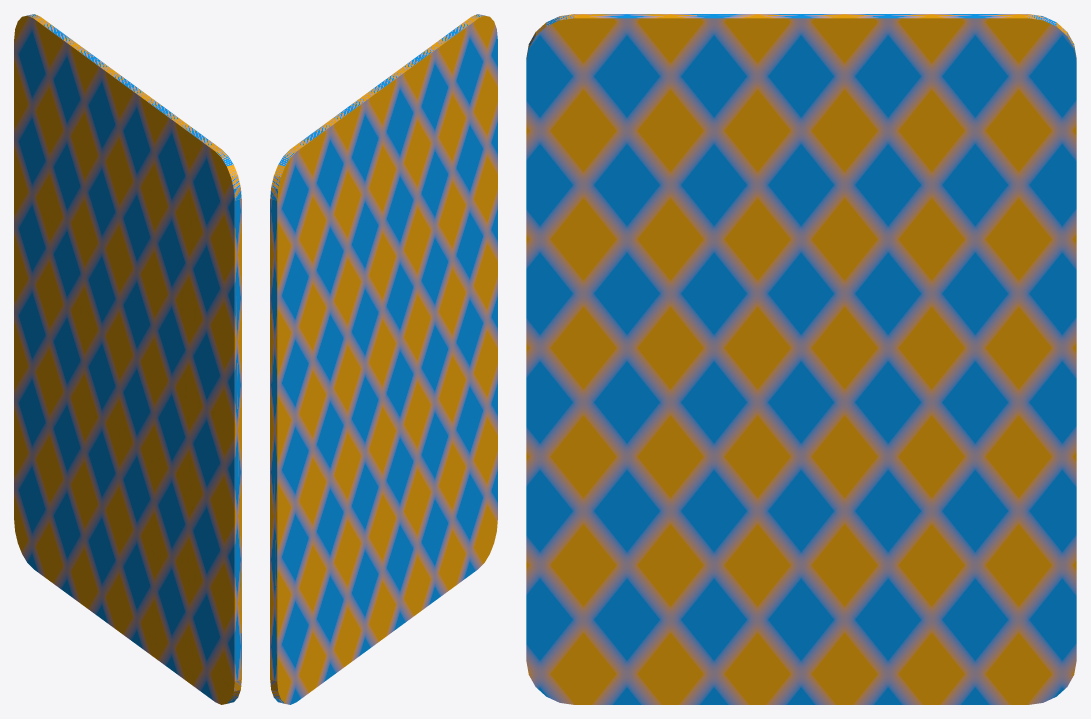
Rendered from Card_back.fbx.
3 views of the same model, side by side, from view 1: azimuth 30°, elevation 25°; view 2: azimuth 150°, elevation 25°; view 3: azimuth 270°, elevation 25° (orthographic). The views are drawn at different scales.
Visible parts, largest first — view 1: Cube; view 2: Cube; view 3: Cube.
Boxes of the visible parts, x1,y1,x2,y2 form: Cube: (14, 14, 241, 704); Cube: (270, 14, 497, 704); Cube: (526, 14, 1076, 704).
Size of the model in its own units: 3.71 by 275 by 200.
Materials: 1 (1 with a texture image).
